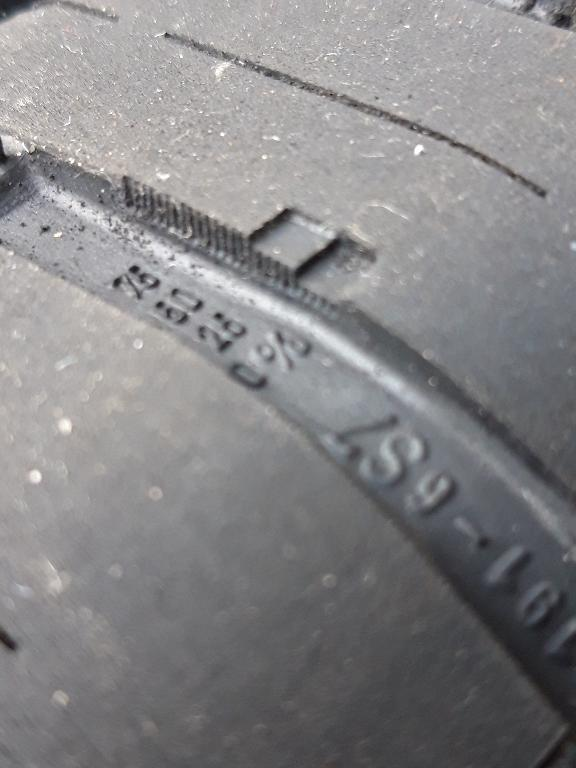temoin:25: (236, 202, 393, 330)
